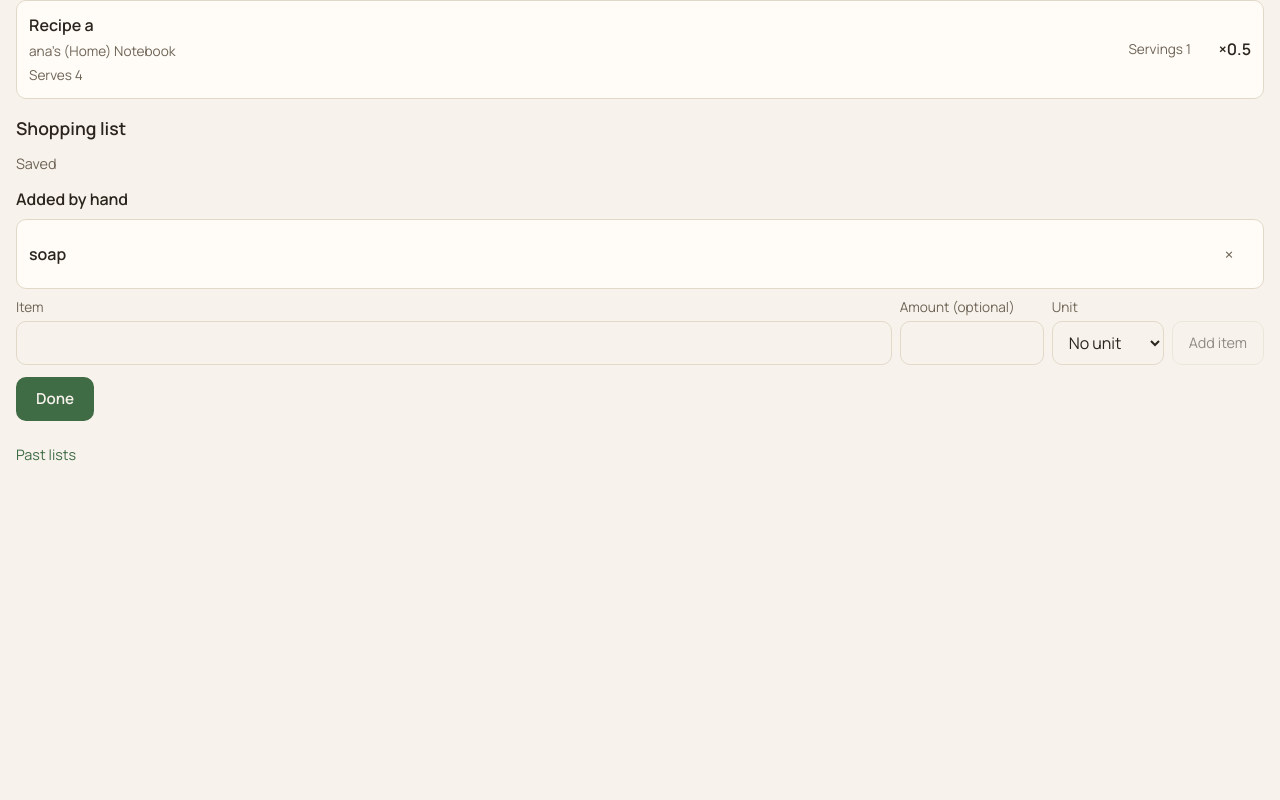
Test: CartScreen › empties the cart on screen and shows a toast after Done
The width and height of the screenshot is (1280, 800).
Click the button "Done".
click(55, 399)  # box x1=16 y1=377 x2=94 y2=421
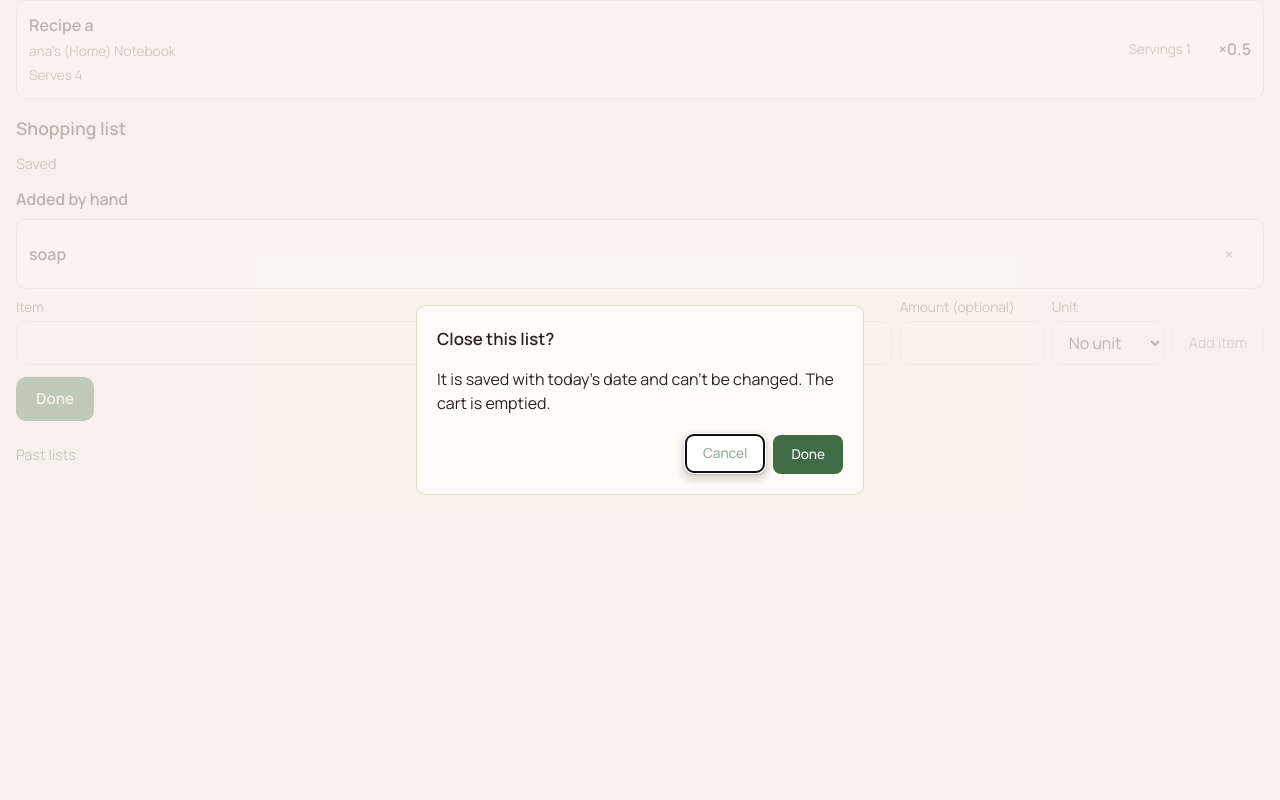
Click the button "Done" below "Close this list?".
click(808, 455)  # box x1=773 y1=435 x2=843 y2=474
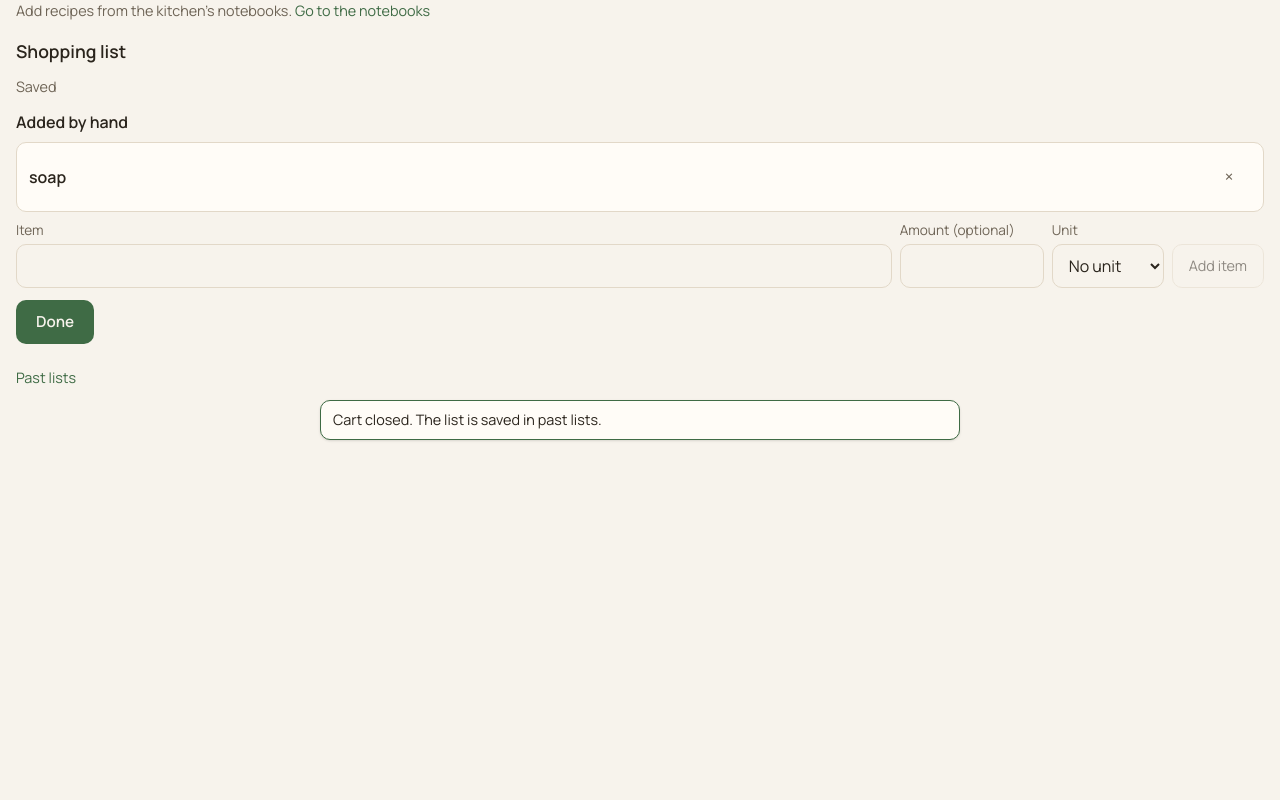
Expected: the text "Cart closed." is shown, x1=333 y1=410 x2=602 y2=429
Expected: the text "Recipe a" is gone
